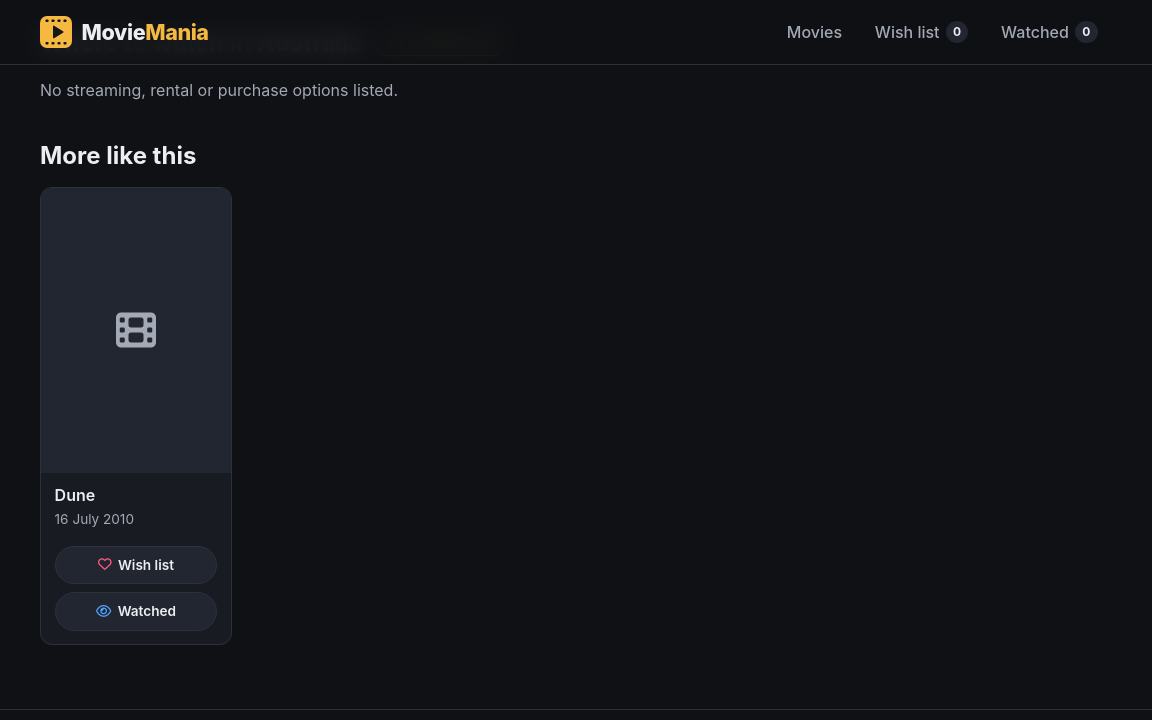
Scenario: Movie detail page › loads a related movie from the top of the page
(page scrolled)
Click the link "Dune 16 July 2010" at (136, 361), box [41,188,231,534]
(page scrolled)
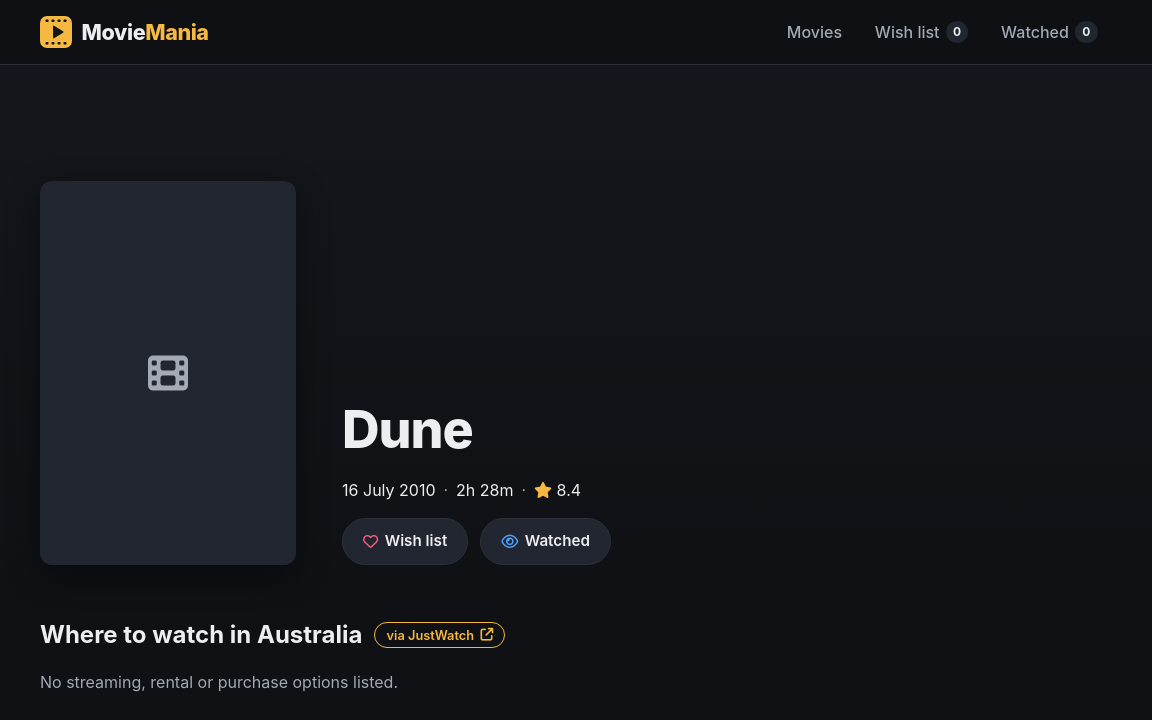
Expected: the heading "Dune" is shown, [342,398,473,461]
